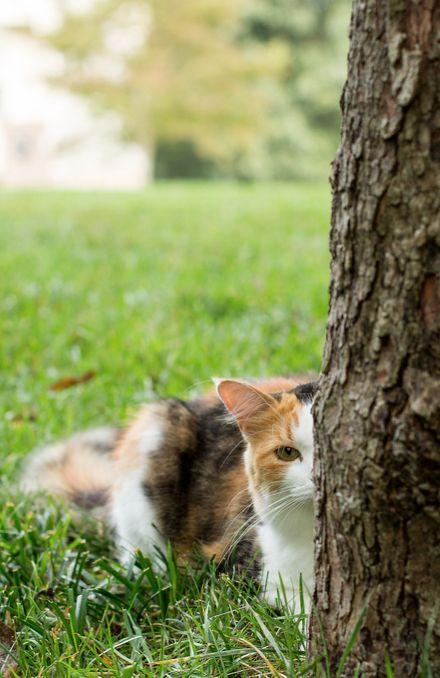kedo: (22, 377, 317, 636)
